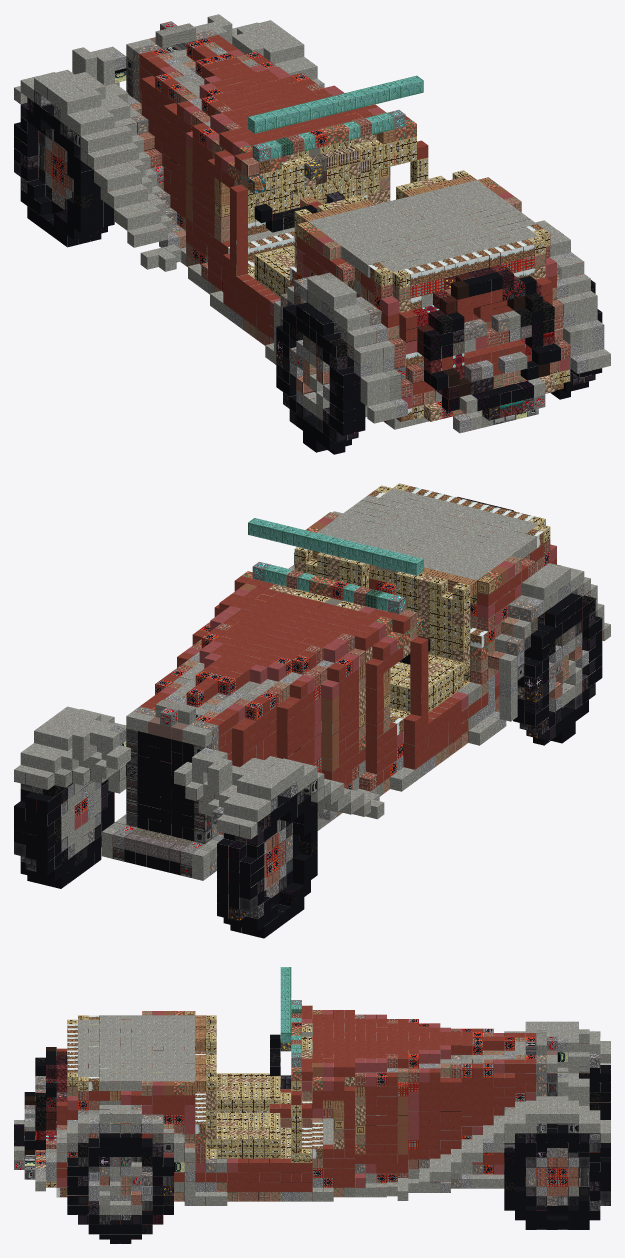
3 views of the same model, one above another, from view 1: azimuth 30°, elevation 25°; view 2: azimuth 150°, elevation 25°; view 3: azimuth 270°, elevation 25° (orthographic). The views are drawn at different scales.
Visible parts, largest first — view 1: Remeshed_Object; view 2: Remeshed_Object; view 3: Remeshed_Object.
Boxes of the visible parts, box(x1,y1,x2,y2) form: Remeshed_Object: box(14, 14, 610, 454); Remeshed_Object: box(14, 483, 610, 938); Remeshed_Object: box(14, 967, 610, 1243).
Bounding box in the file's own units: 2.23 × 1.98 × 5.55.
Materials: 1 (1 with a texture image).
